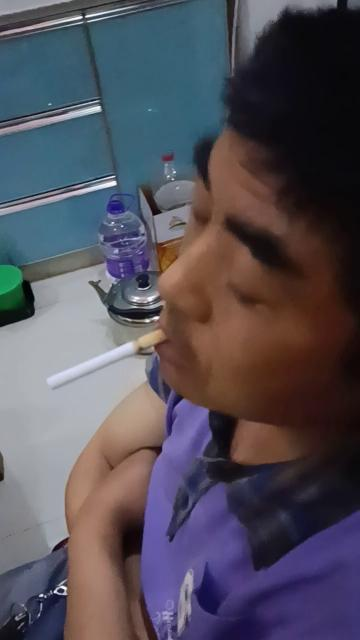Smoking: (48, 328, 166, 392)
